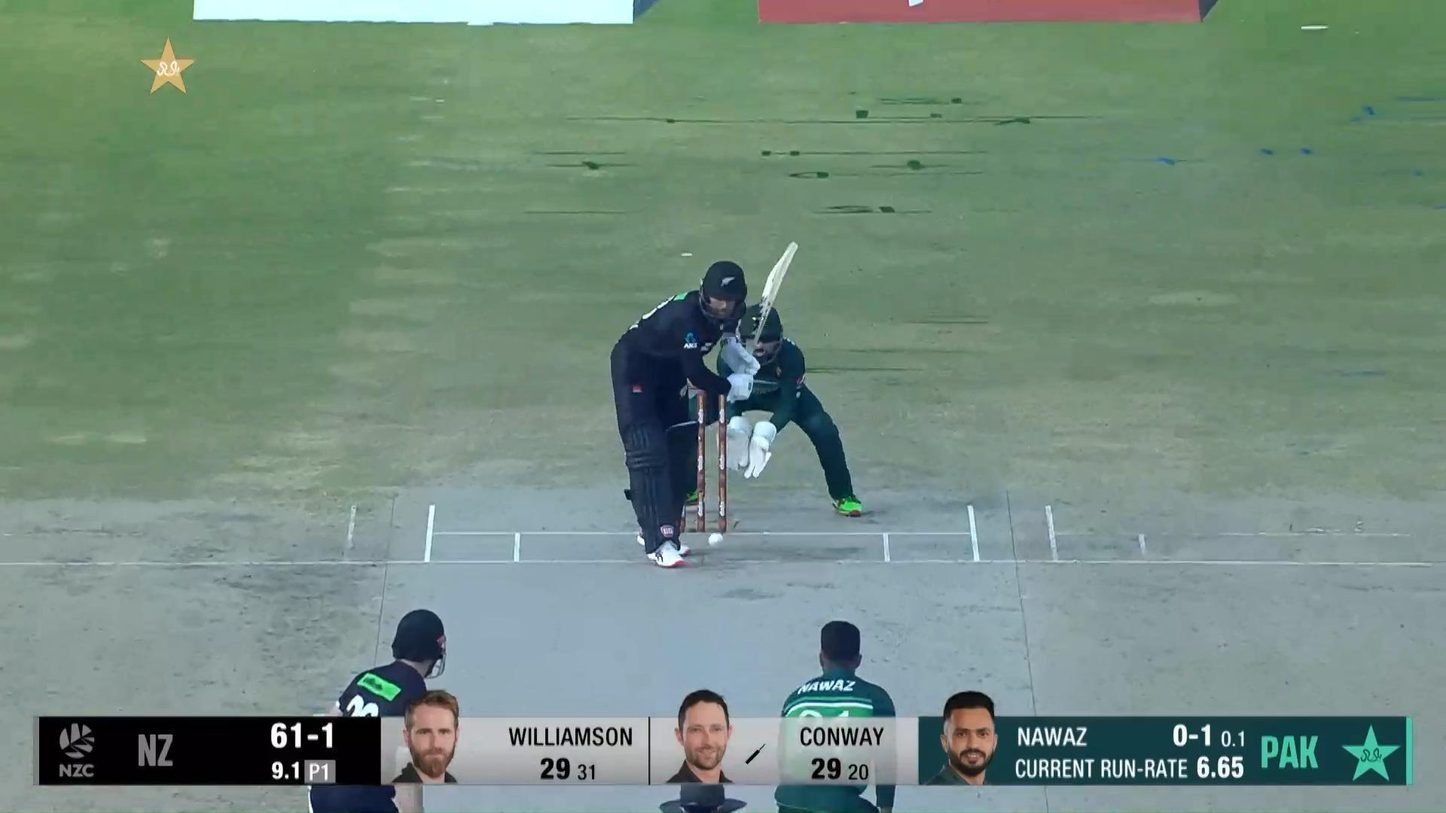BM 1: (610, 241, 799, 568)
BO: (776, 619, 899, 813)
